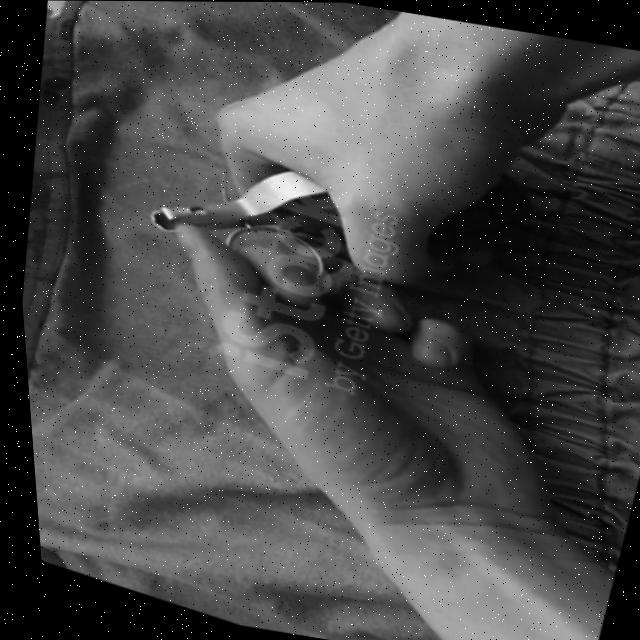grenade: (125, 64, 548, 342)
